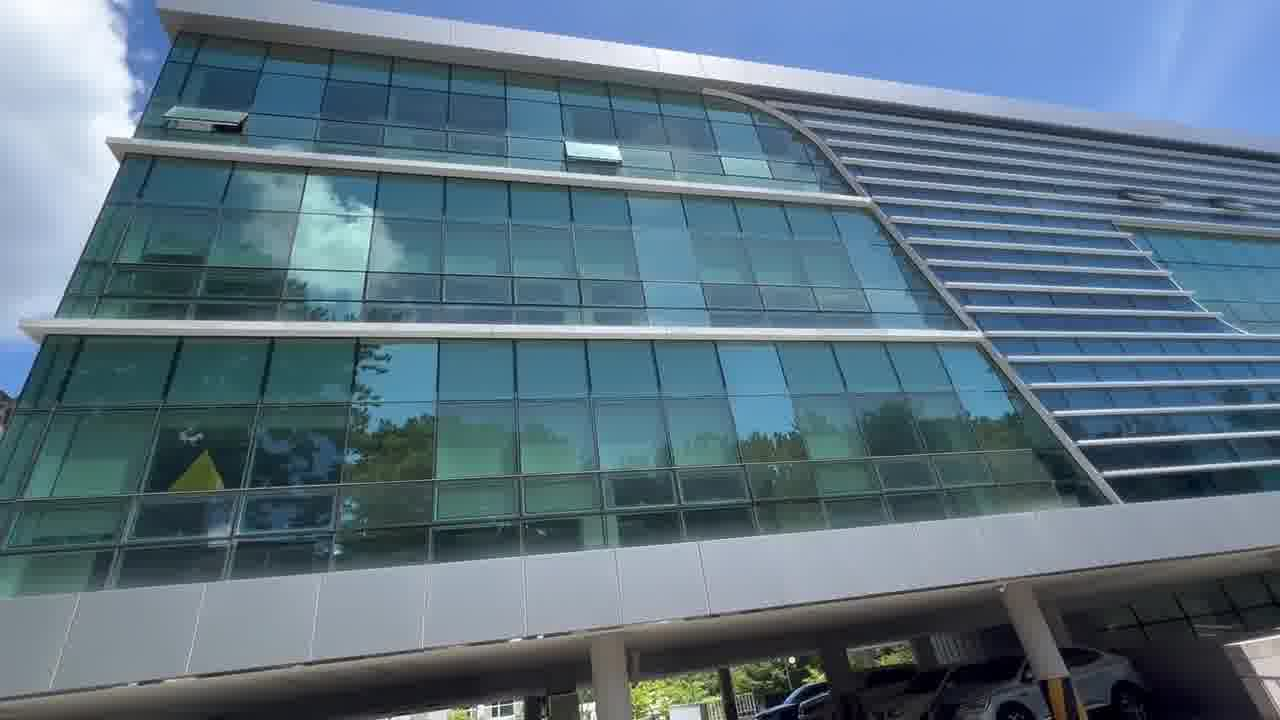high: (46, 12, 1280, 608)
